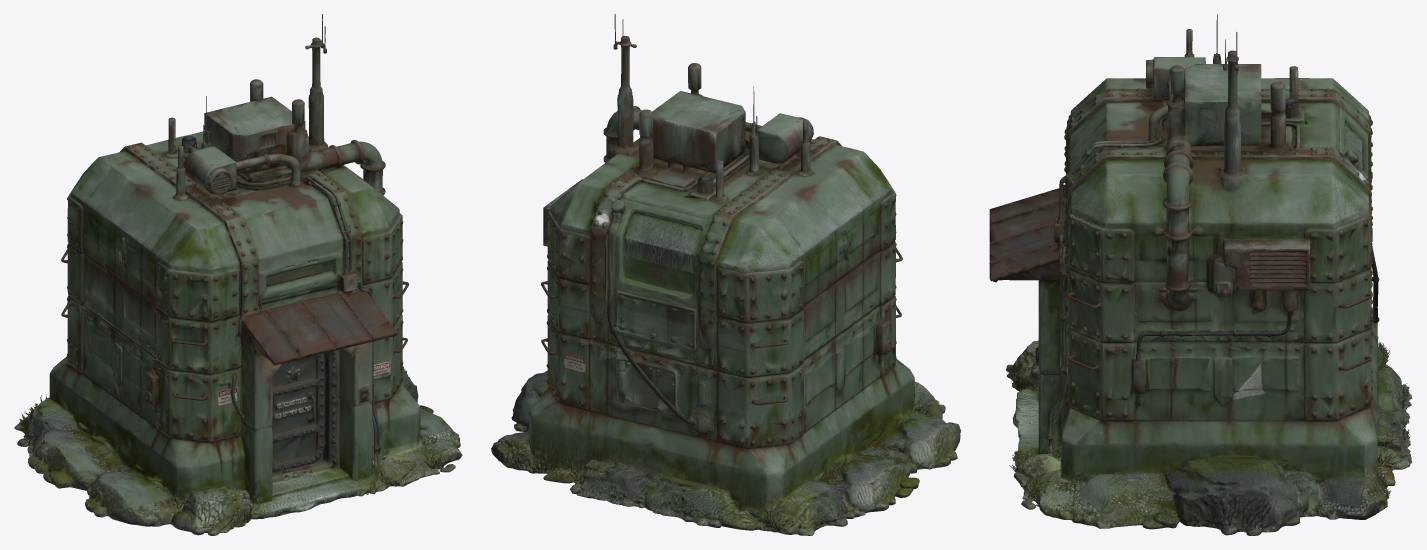
The model's file is bunker_green.glb.
3 views of the same model, side by side, from view 1: azimuth 30°, elevation 25°; view 2: azimuth 150°, elevation 25°; view 3: azimuth 270°, elevation 25° (orthographic). The views are drawn at different scales.
Visible parts, largest first — view 1: bunker_green; view 2: bunker_green; view 3: bunker_green.
Part boxes in pixels (x1=…): bunker_green: x1=14, y1=14, x2=462, y2=535; bunker_green: x1=491, y1=14, x2=960, y2=535; bunker_green: x1=989, y1=14, x2=1412, y2=535.
Size of the model in its own units: 1.85 by 1.9 by 1.6.
Materials: 1 (1 with a texture image).
